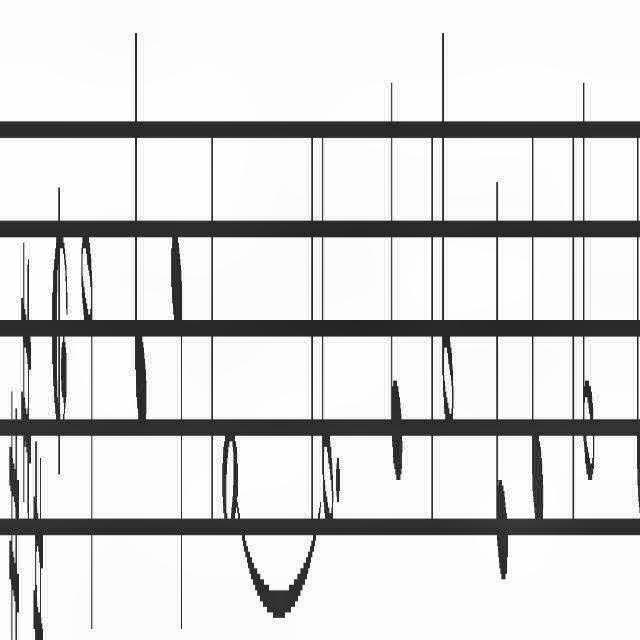Diez: (18, 211, 32, 563), (5, 348, 19, 640), (29, 424, 46, 640)
Full-note: (221, 415, 239, 533)
Half-note: (77, 176, 99, 640), (441, 24, 459, 460), (580, 62, 596, 520), (321, 82, 335, 572)
Quarter-note: (165, 160, 189, 640), (127, 0, 150, 468), (530, 88, 546, 576), (494, 154, 511, 602), (390, 42, 404, 494), (635, 111, 640, 569), (639, 111, 640, 569)
